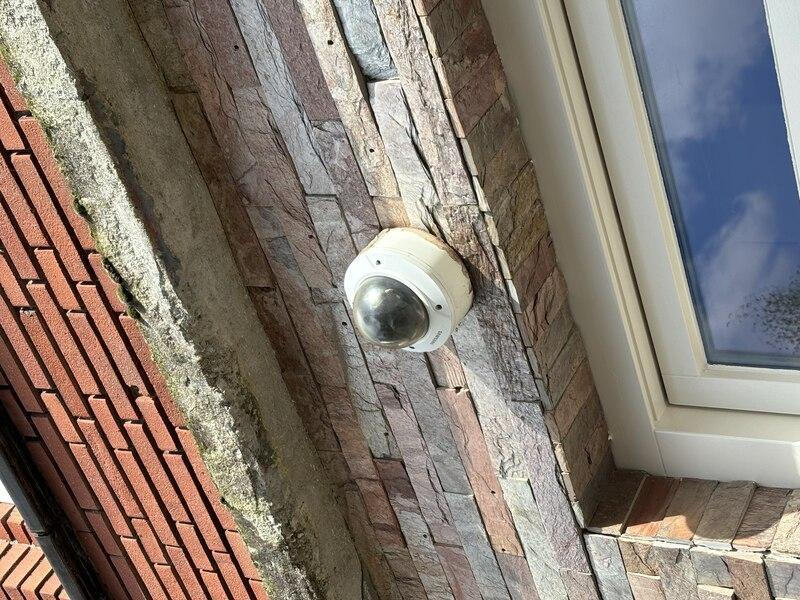dome: (232, 337, 374, 480)
